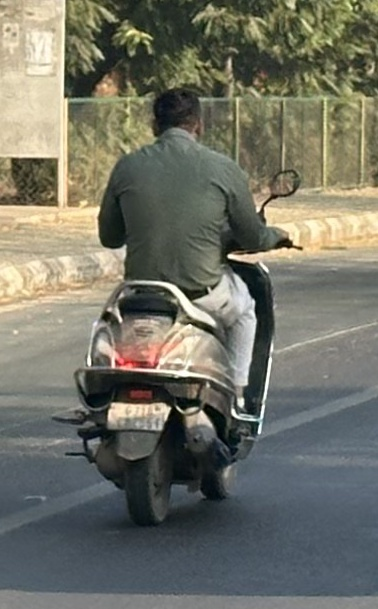BikeWithRider: (46, 77, 308, 529)
NoHelmet: (141, 82, 211, 148)
